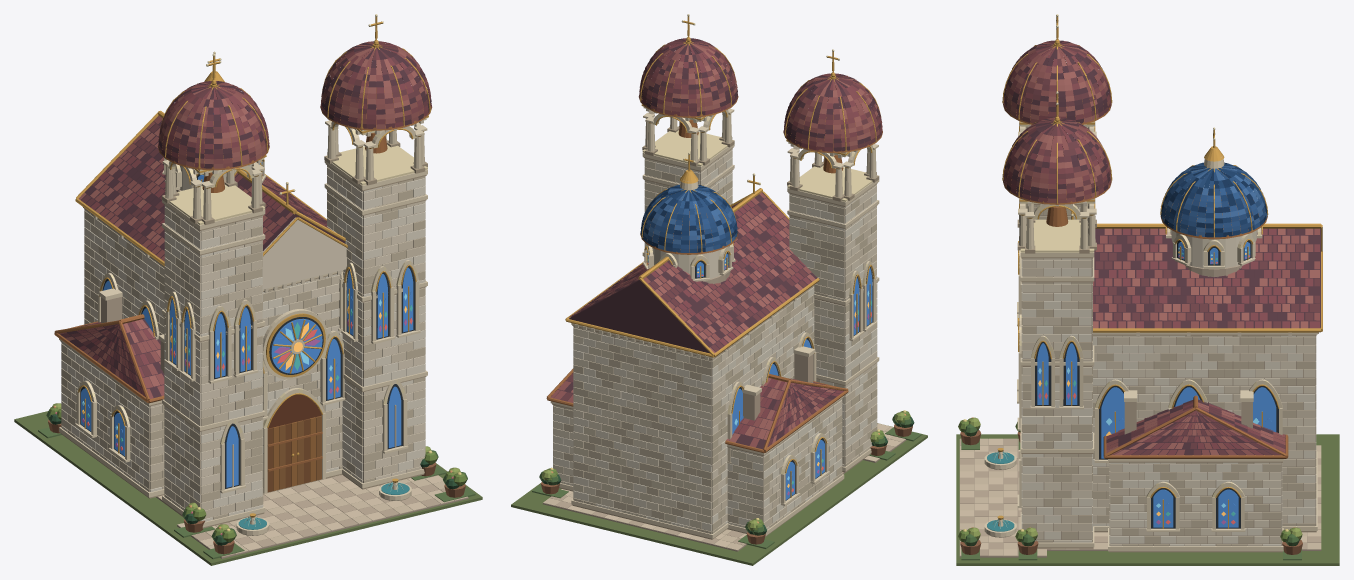
The model's file is chapel-nivel-8.glb.
3 renders of one model, left to right at view 1: azimuth 30°, elevation 25°; view 2: azimuth 150°, elevation 25°; view 3: azimuth 270°, elevation 25°, orthographic. The views are drawn at different scales.
Parts seen in each view (by area): view 1: Capela 08 #e6d7ba, Capela 08 #e8dcc5, Capela 08 #eae1ce, Capela 08 #ded1b9, Capela 08 #cec1a8, Capela 08 #593b44, Capela 08 #406c9f, Capela 08 #d5a452, Capela 08 #8f5655, Capela 08 #9e645f, Capela 08 #824a50, Capela 08 #6c7d4e (+17 smaller); view 2: Capela 08 #e8dcc5, Capela 08 #cec1a8, Capela 08 #ded1b9, Capela 08 #eae1ce, Capela 08 #593b44, Capela 08 #e6d7ba, Capela 08 #8f5655, Capela 08 #824a50, Capela 08 #6c7d4e, Capela 08 #9e645f, Capela 08 #d5a452, Capela 08 #70444a (+15 smaller); view 3: Capela 08 #593b44, Capela 08 #eae1ce, Capela 08 #cec1a8, Capela 08 #e8dcc5, Capela 08 #e6d7ba, Capela 08 #ded1b9, Capela 08 #8f5655, Capela 08 #70444a, Capela 08 #824a50, Capela 08 #9e645f, Capela 08 #6c7d4e, Capela 08 #b3a390 (+19 smaller).
Part boxes in pixels (bbox=[...]): Capela 08 #e6d7ba: bbox=[59, 119, 427, 535]; Capela 08 #e8dcc5: bbox=[61, 165, 425, 508]; Capela 08 #eae1ce: bbox=[61, 178, 425, 521]; Capela 08 #ded1b9: bbox=[61, 119, 425, 520]; Capela 08 #cec1a8: bbox=[61, 176, 425, 519]; Capela 08 #593b44: bbox=[60, 41, 431, 397]; Capela 08 #406c9f: bbox=[81, 162, 413, 487]; Capela 08 #d5a452: bbox=[75, 17, 430, 517]; Capela 08 #8f5655: bbox=[59, 41, 428, 398]; Capela 08 #9e645f: bbox=[65, 44, 429, 386]; Capela 08 #824a50: bbox=[76, 41, 431, 396]; Capela 08 #6c7d4e: bbox=[14, 411, 482, 565]; Capela 08 #e8dcc5: bbox=[553, 150, 877, 530]; Capela 08 #cec1a8: bbox=[553, 171, 877, 533]; Capela 08 #ded1b9: bbox=[553, 108, 877, 529]; Capela 08 #eae1ce: bbox=[553, 157, 877, 531]; Capela 08 #593b44: bbox=[554, 38, 881, 449]; Capela 08 #e6d7ba: bbox=[550, 108, 879, 538]; Capela 08 #8f5655: bbox=[550, 42, 882, 447]; Capela 08 #824a50: bbox=[569, 38, 881, 435]; Capela 08 #6c7d4e: bbox=[511, 423, 927, 565]; Capela 08 #9e645f: bbox=[571, 41, 882, 443]; Capela 08 #d5a452: bbox=[565, 16, 881, 497]; Capela 08 #70444a: bbox=[560, 38, 881, 446]; Capela 08 #593b44: bbox=[1003, 40, 1320, 455]; Capela 08 #eae1ce: bbox=[1021, 207, 1316, 546]; Capela 08 #cec1a8: bbox=[1021, 205, 1316, 546]; Capela 08 #e8dcc5: bbox=[1021, 219, 1316, 546]; Capela 08 #e6d7ba: bbox=[984, 126, 1317, 551]; Capela 08 #ded1b9: bbox=[1019, 121, 1318, 546]; Capela 08 #8f5655: bbox=[1004, 42, 1319, 455]; Capela 08 #70444a: bbox=[1003, 40, 1319, 455]; Capela 08 #824a50: bbox=[1004, 41, 1319, 455]; Capela 08 #9e645f: bbox=[1003, 40, 1319, 455]; Capela 08 #6c7d4e: bbox=[956, 434, 1339, 565]; Capela 08 #b3a390: bbox=[1023, 205, 1315, 545].
Size of the model in its own units: 11.75 by 19.07 by 14.76.
